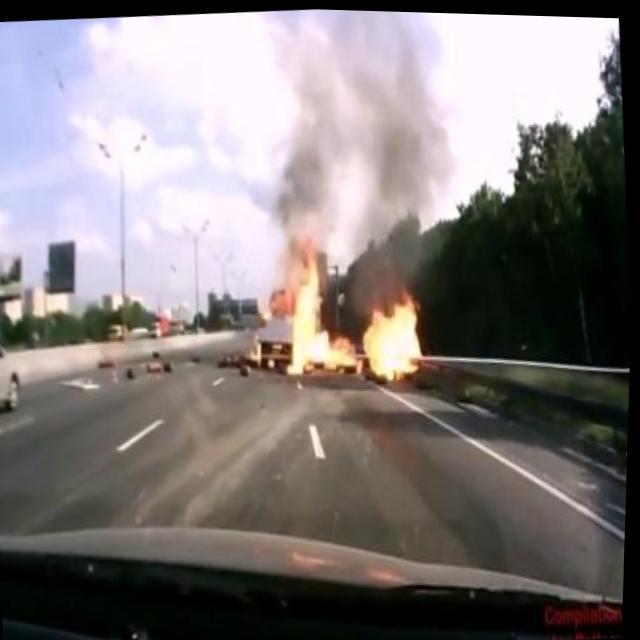fire: (278, 228, 434, 387), (250, 334, 266, 361)
